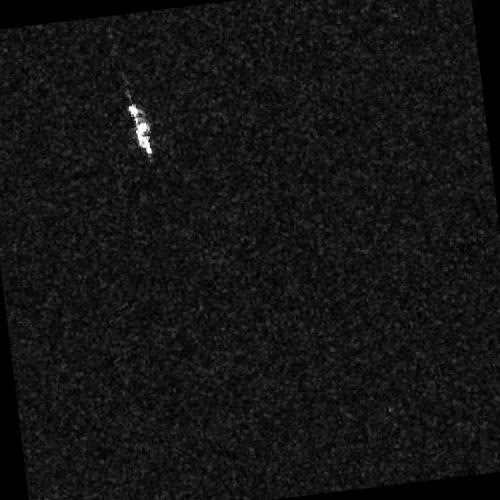ship: (126, 100, 153, 156)
